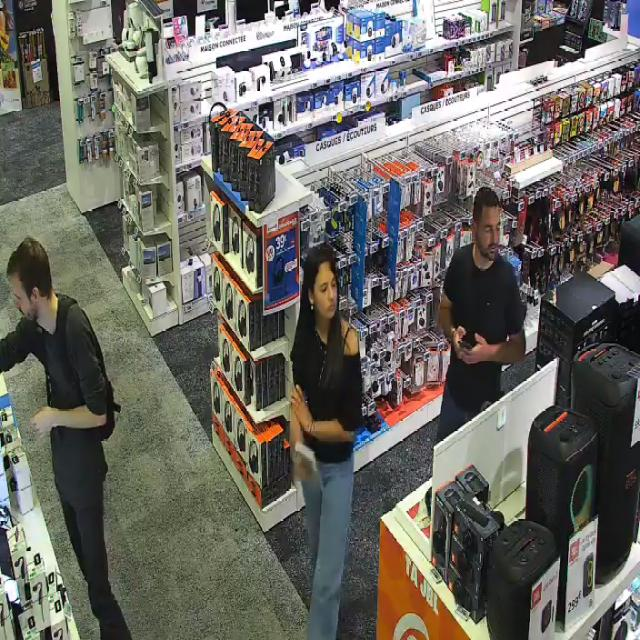article: (294, 445, 319, 476)
hands: (32, 406, 105, 436), (459, 331, 489, 365), (292, 386, 314, 430), (293, 453, 317, 481), (450, 325, 466, 360)
person: (0, 238, 131, 639), (290, 244, 363, 639), (436, 188, 525, 442)
